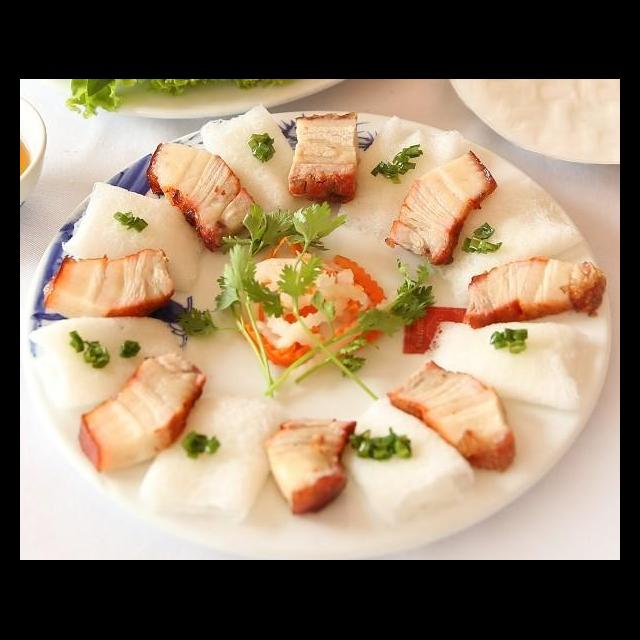banh hoi: (132, 386, 295, 526), (329, 392, 485, 530), (431, 174, 586, 300), (332, 110, 470, 243), (56, 176, 210, 294), (191, 100, 327, 230), (420, 316, 597, 414), (26, 310, 191, 414)
banh hoi heo quay: (41, 121, 603, 541)
dua chua: (235, 248, 392, 370)
thit heo quay: (74, 348, 212, 478), (383, 356, 523, 481), (141, 136, 267, 258), (382, 146, 501, 270), (457, 252, 610, 336), (257, 412, 365, 518), (37, 244, 179, 324), (281, 106, 365, 208)
